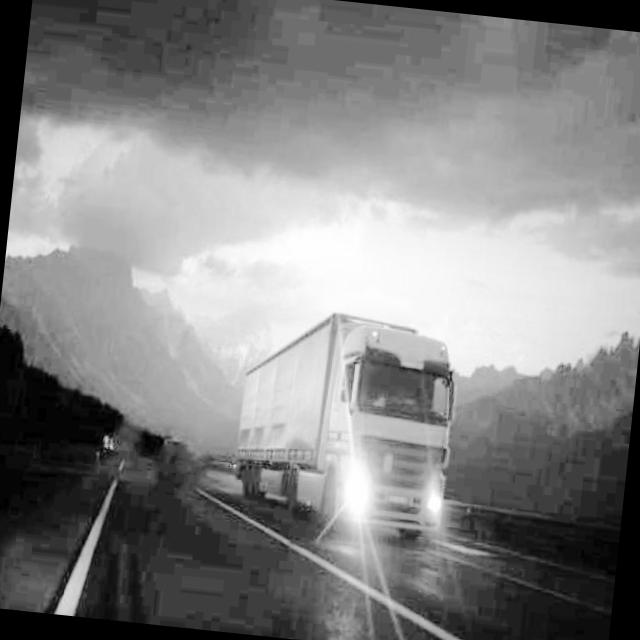Truck: (227, 301, 465, 540)
